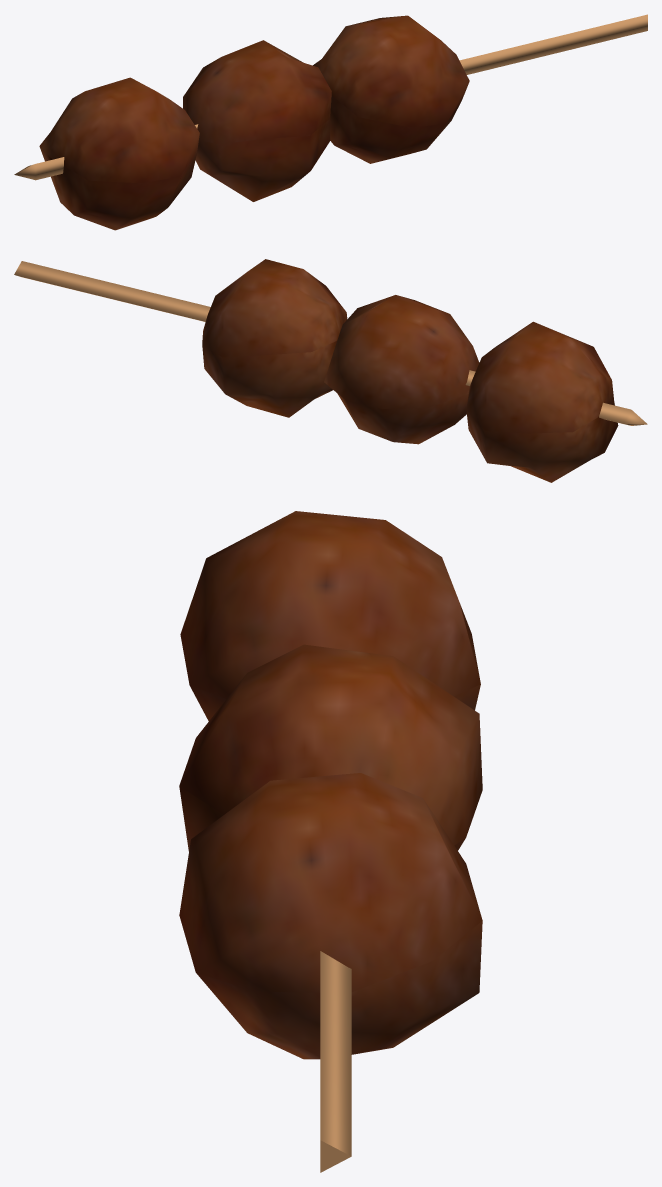
The model's file is MeatBall.fbx.
3 views of the same model, one above another, from view 1: azimuth 30°, elevation 25°; view 2: azimuth 150°, elevation 25°; view 3: azimuth 270°, elevation 25° (orthographic). The views are drawn at different scales.
Parts seen in each view (by area): view 1: MeatBall; view 2: MeatBall; view 3: MeatBall.
Part boxes in pixels (x1=…): MeatBall: x1=14, y1=14, x2=647, y2=230; MeatBall: x1=14, y1=259, x2=647, y2=482; MeatBall: x1=179, y1=511, x2=482, y2=1172.
Bounding box in the file's own units: 20.03 × 4.19 × 4.11.
